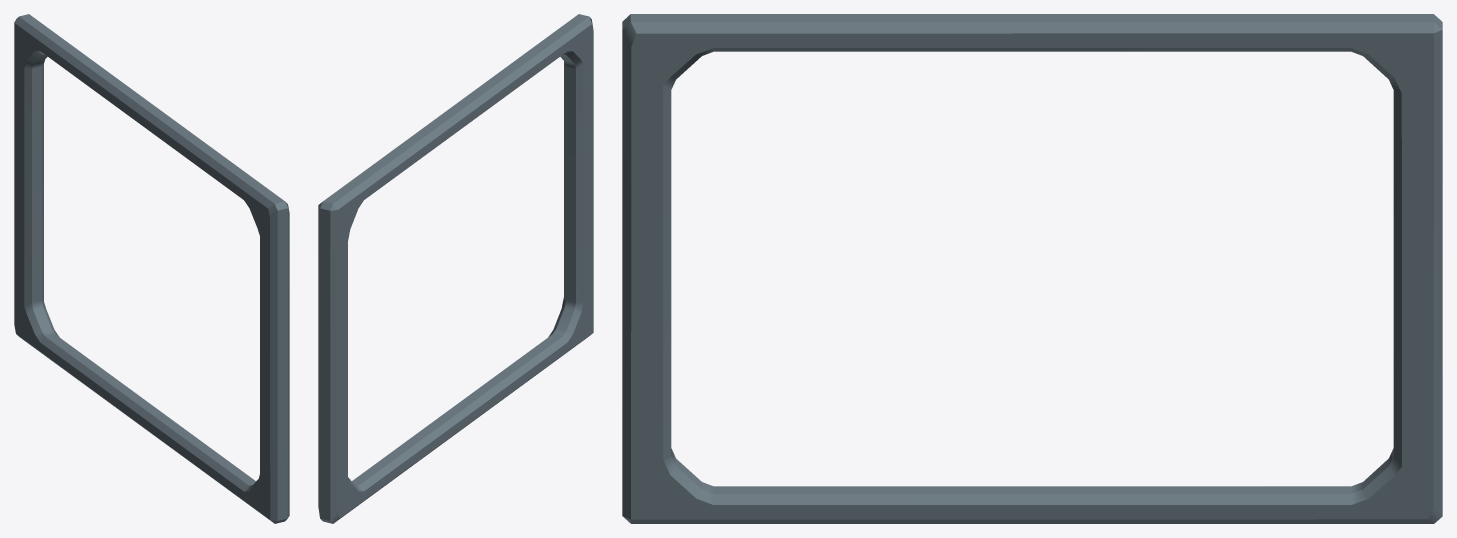
Rendered from plaka 16 emboss.fbx.
The picture shows the model from 3 angles, left to right: view 1: azimuth 30°, elevation 25°; view 2: azimuth 150°, elevation 25°; view 3: azimuth 270°, elevation 25°; orthographic projection. The views are drawn at different scales.
Visible parts, largest first — view 1: pCube435; view 2: pCube435; view 3: pCube435.
Part boxes in pixels (left/top/right/bottom): pCube435: left=14, top=14, right=289, bottom=523; pCube435: left=318, top=14, right=593, bottom=523; pCube435: left=622, top=14, right=1442, bottom=523.
Size of the model in its own units: 8.47 by 132 by 195.
